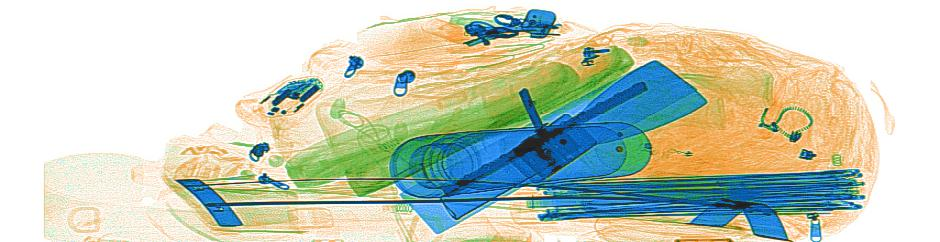lighter: (519, 7, 557, 40)
